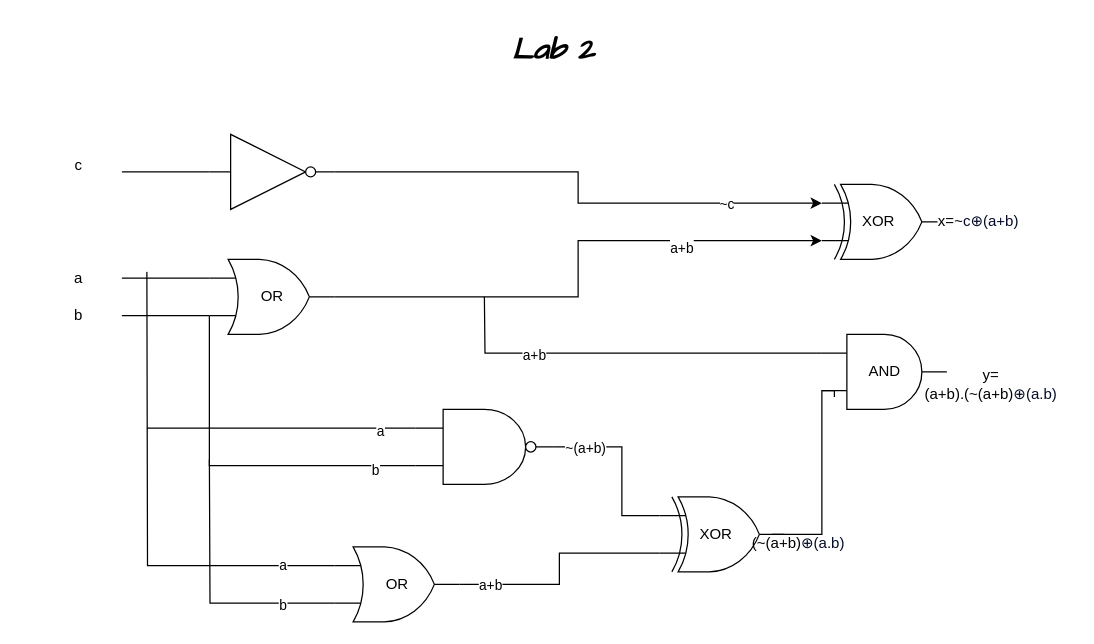
Image size: 1094x644. Some labels were removed from this diagram. Each missing label, with the centre of its shape:
"NAND" goes at (x=483, y=446).
"Not" goes at (x=271, y=171).
